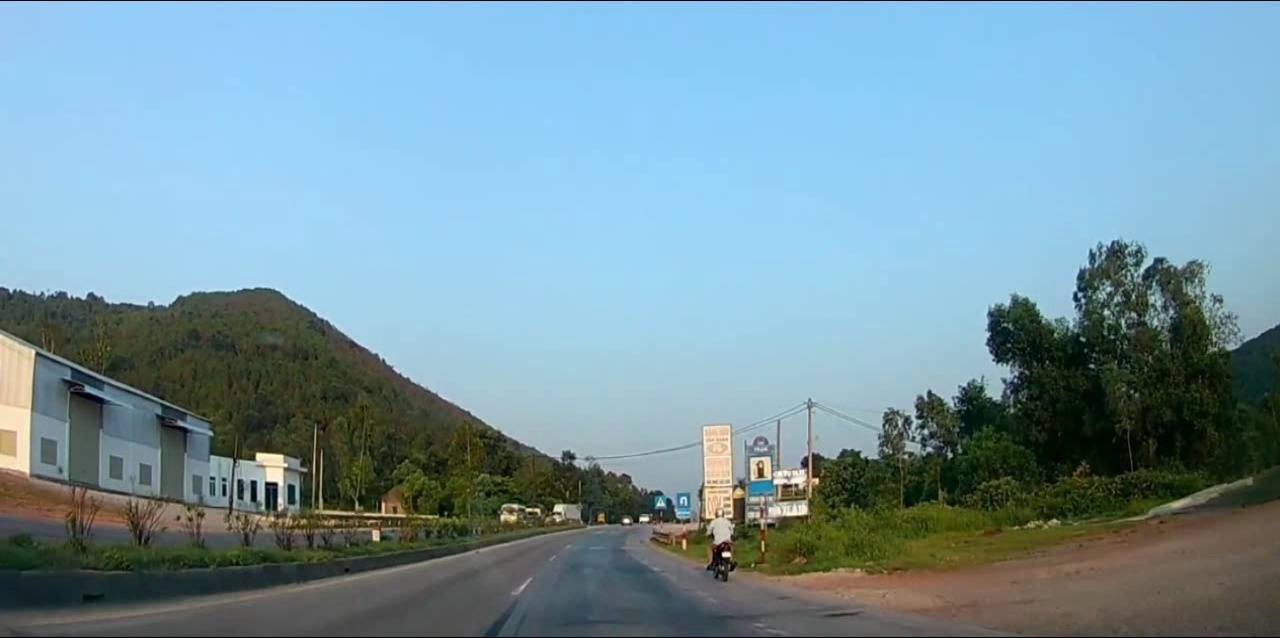Bien khac: (744, 448, 776, 498)
Nguoi di bo: (650, 493, 667, 511)
